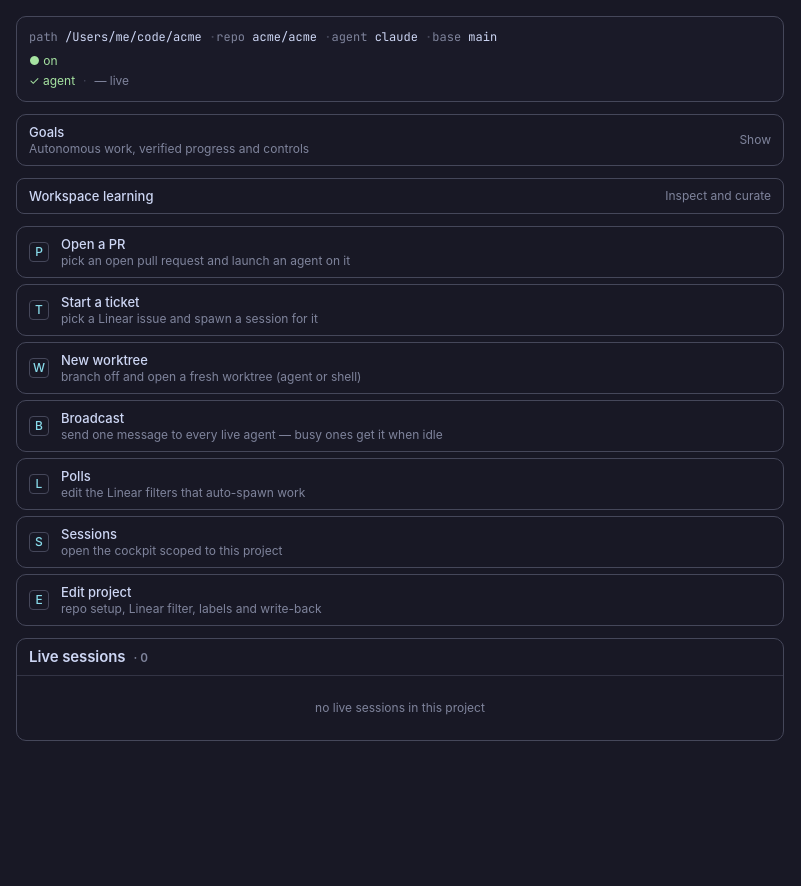
Test: ProjectDetail › broadcasts one message to the project's agents and shows the delivered/deferred split
Click the button "Broadcast" at (400, 426), box 16,400 -> 784,452
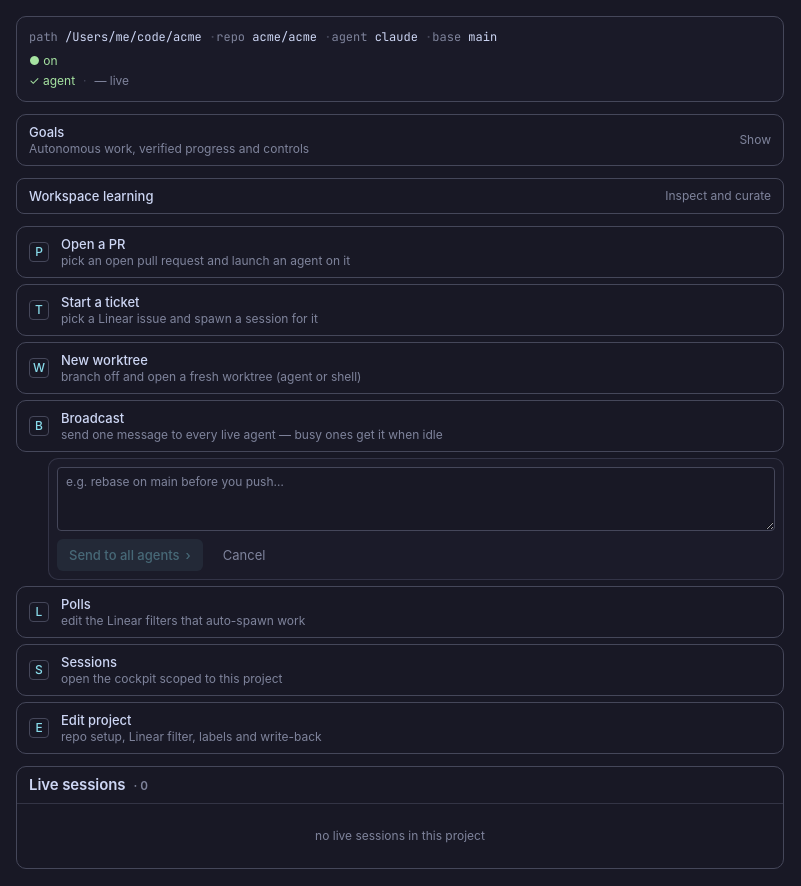
Type "  rebase on main  " into the text box named "Broadcast message" at (416, 499), box 57,467 -> 775,531
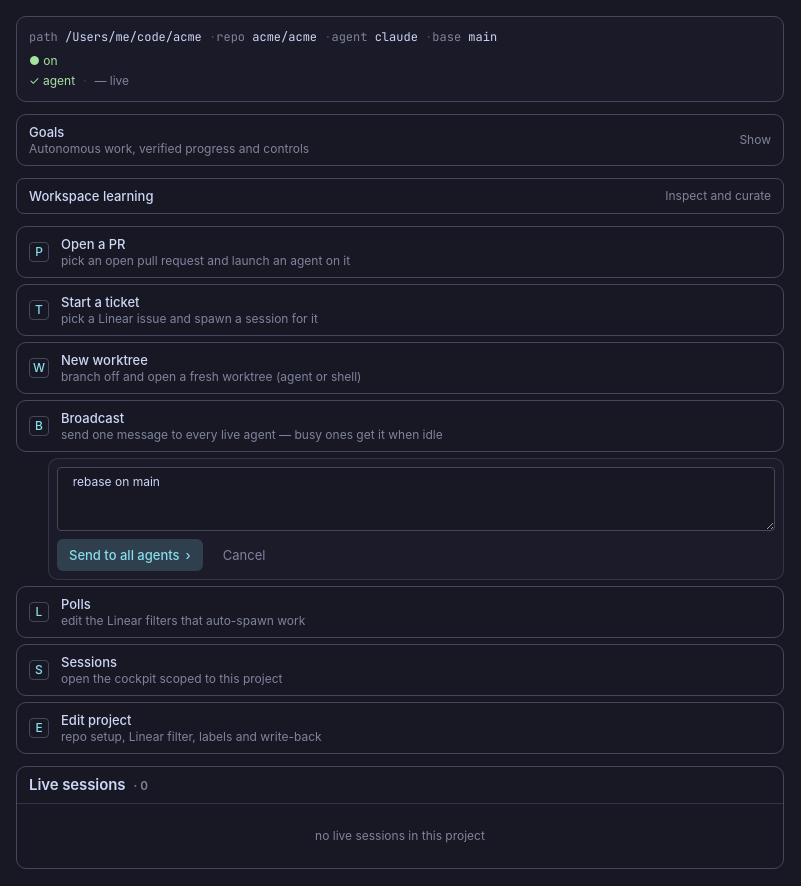
Click the button "Send to all agents ›" at (130, 555), box 57,539 -> 203,571
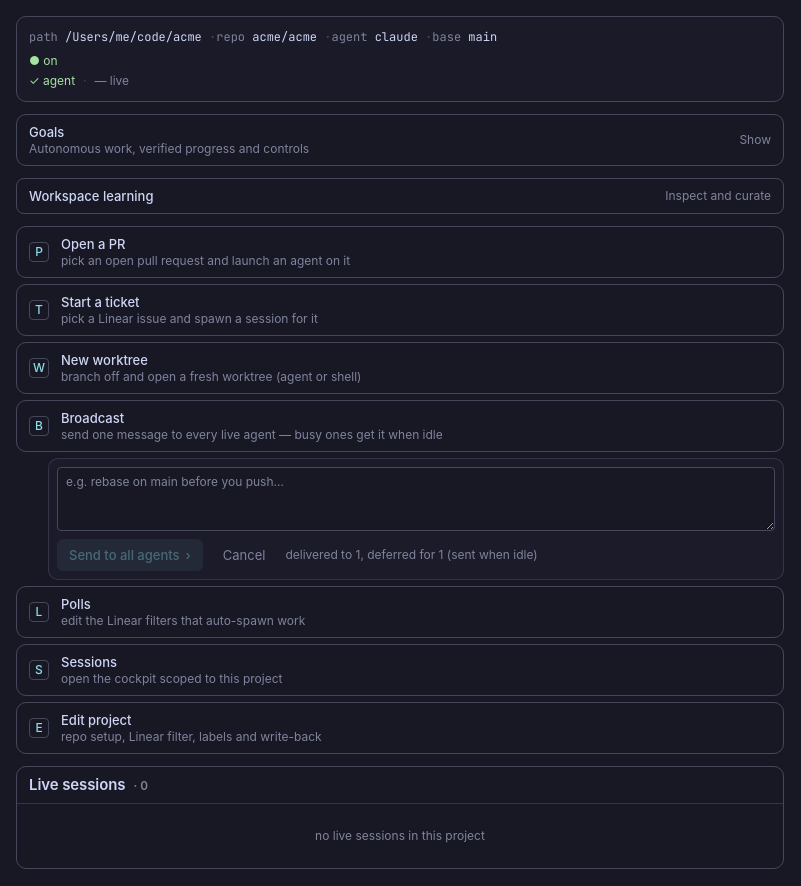
Now the text "delivered to 1, deferred for 1 (sent when idle)" is shown, box 285,547 -> 538,563
Now the text box named "Broadcast message" is empty, box 57,467 -> 775,531
